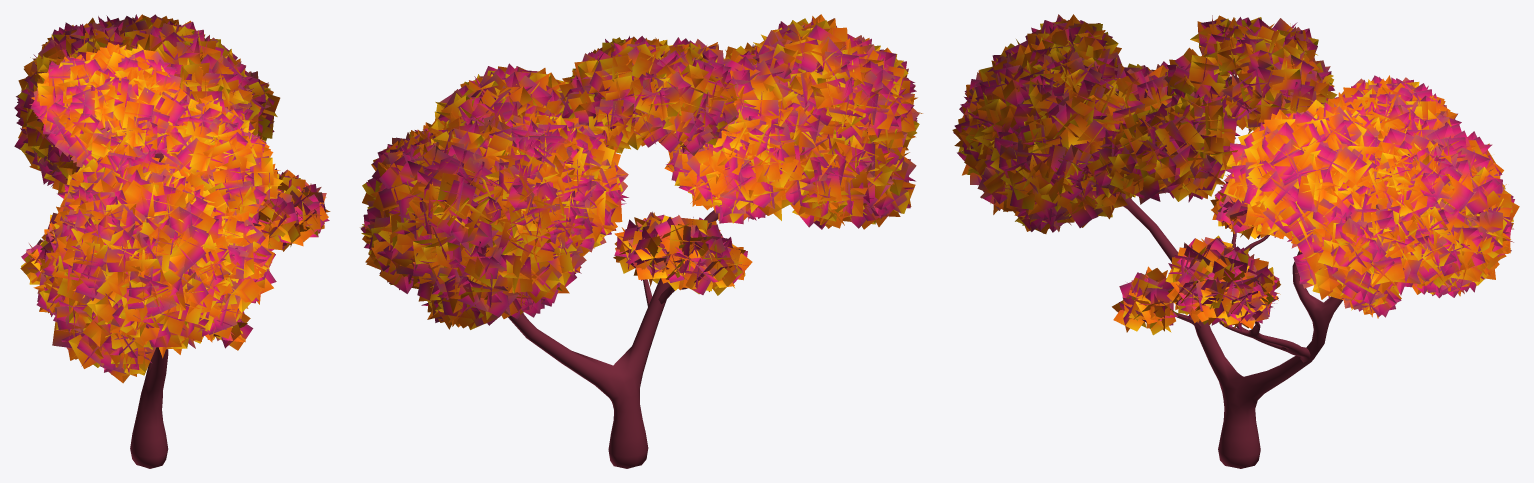
File: Boom2.fbx
3 renders of one model, left to right at view 1: azimuth 30°, elevation 25°; view 2: azimuth 150°, elevation 25°; view 3: azimuth 270°, elevation 25°, orthographic. The views are drawn at different scales.
Parts seen in each view (by area): view 1: Plane.008; view 2: Plane.008; view 3: Plane.008.
Part boxes in pixels (x1,y1,x2,y2): Plane.008: [14, 14, 330, 468]; Plane.008: [360, 14, 922, 468]; Plane.008: [952, 14, 1519, 468].
Size of the model in its own units: 680 by 738 by 892.
